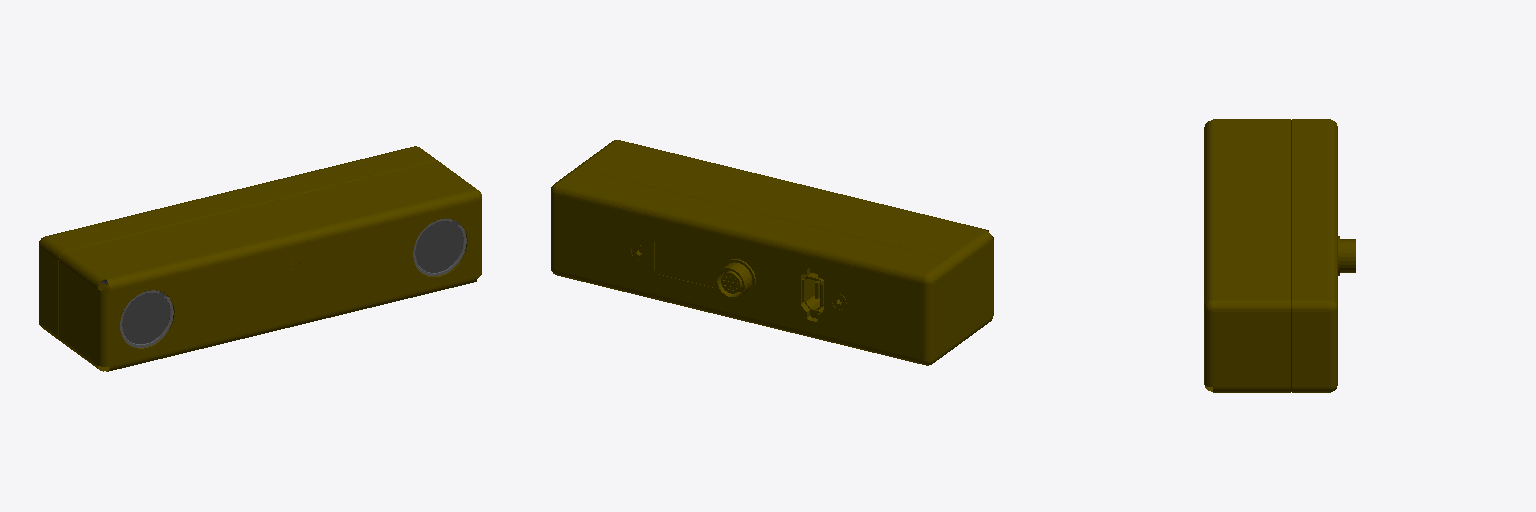
Rendered from bumblebee.obj.
3 views of the same model, side by side, from view 1: azimuth 30°, elevation 25°; view 2: azimuth 150°, elevation 25°; view 3: azimuth 270°, elevation 25° (orthographic).
Parts seen in each view (by area): view 1: face__44, face__39, face__28, face__40, face__37, face__306, face__329, face__45, face__10, face__46, face__38; view 2: face__4, face__39, face__28, face__7, face__37, face__259, face__15, face__10, face__11, face__38; view 3: face__39, face__28, face__33, face__18, face__40, face__7, face__32, face__5, face__42.
Boxes of the visible parts, x1=… form: face__44: x1=110, y1=201, x2=477, y2=365; face__39: x1=67, y1=161, x2=472, y2=278; face__28: x1=48, y1=147, x2=433, y2=250; face__40: x1=106, y1=190, x2=477, y2=290; face__37: x1=59, y1=261, x2=97, y2=364; face__306: x1=415, y1=220, x2=462, y2=272; face__329: x1=122, y1=292, x2=169, y2=343; face__45: x1=106, y1=277, x2=477, y2=371; face__10: x1=40, y1=248, x2=57, y2=335; face__46: x1=98, y1=290, x2=109, y2=366; face__38: x1=59, y1=251, x2=104, y2=288; face__4: x1=555, y1=195, x2=922, y2=359; face__39: x1=579, y1=141, x2=984, y2=258; face__28: x1=560, y1=169, x2=945, y2=272; face__7: x1=555, y1=183, x2=926, y2=283; face__37: x1=954, y1=241, x2=992, y2=344; face__259: x1=655, y1=240, x2=717, y2=287; face__15: x1=555, y1=270, x2=923, y2=364; face__10: x1=935, y1=269, x2=953, y2=357; face__11: x1=923, y1=283, x2=934, y2=360; face__38: x1=947, y1=230, x2=992, y2=268; face__39: x1=1213, y1=120, x2=1290, y2=299; face__28: x1=1292, y1=120, x2=1328, y2=299; face__33: x1=1213, y1=312, x2=1290, y2=386; face__18: x1=1292, y1=312, x2=1328, y2=386; face__40: x1=1204, y1=120, x2=1212, y2=305; face__7: x1=1329, y1=120, x2=1337, y2=304; face__32: x1=1213, y1=300, x2=1290, y2=311; face__5: x1=1329, y1=309, x2=1337, y2=386; face__42: x1=1204, y1=309, x2=1212, y2=386.
Bounding box in the file's own units: 157 × 36 × 53.7.